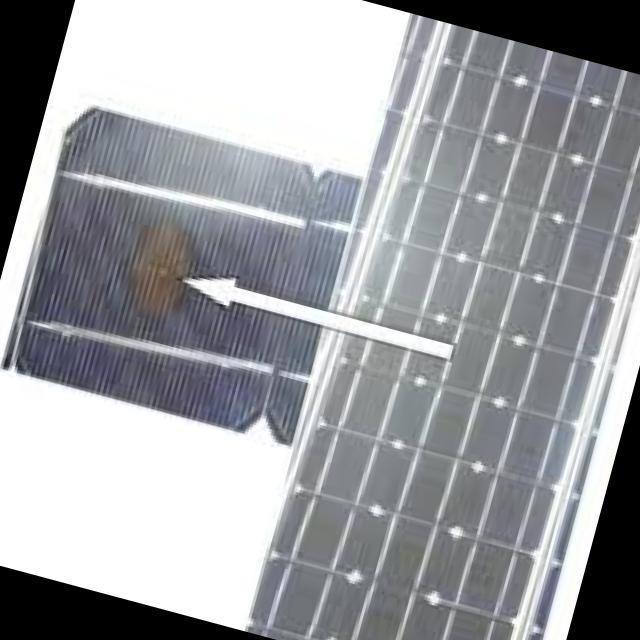faulty: (104, 198, 214, 341)
